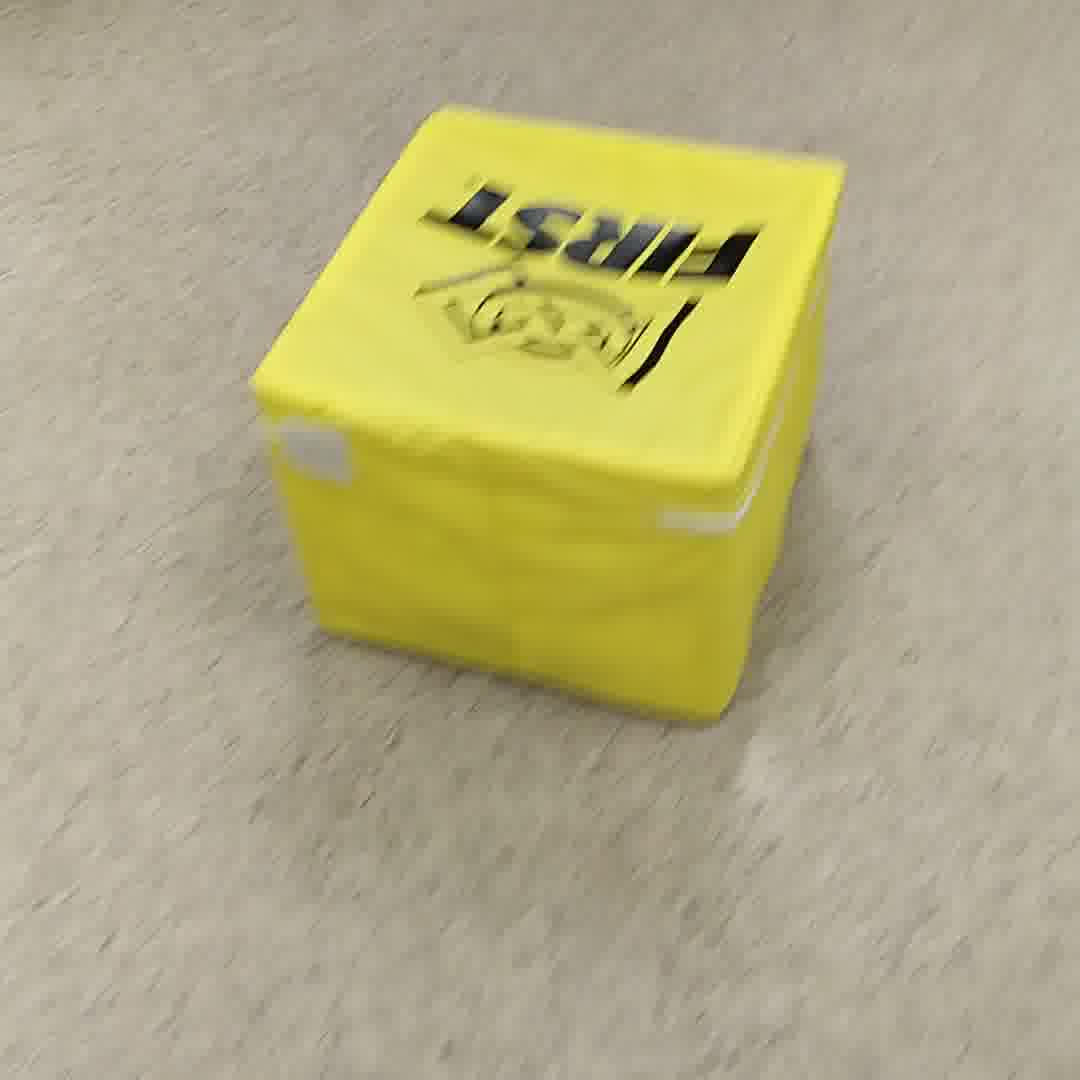box: (232, 85, 873, 736)
